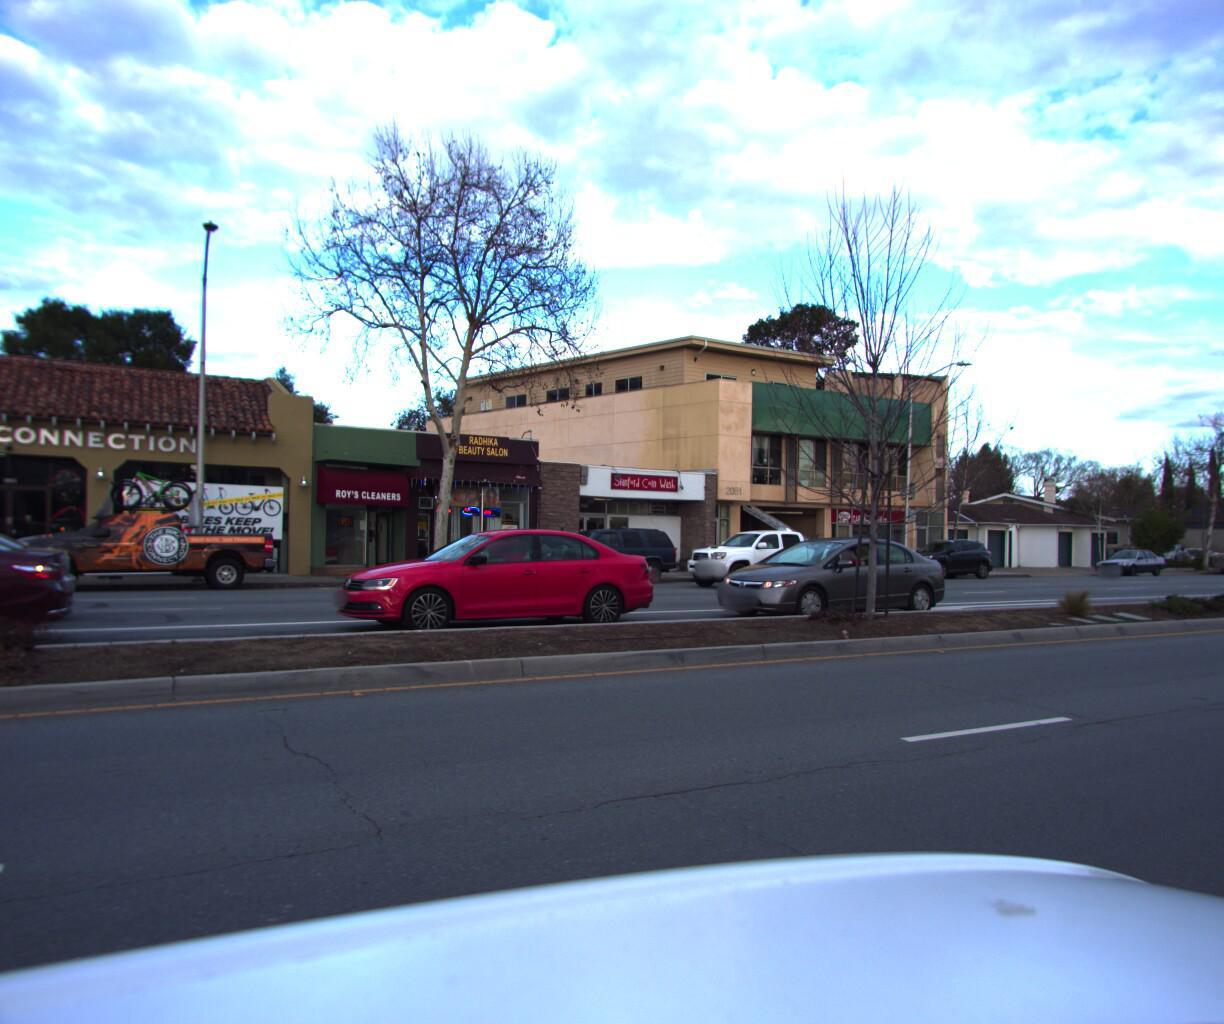car: (319, 516, 668, 641), (0, 464, 282, 594), (695, 528, 955, 625), (0, 500, 74, 689), (514, 520, 681, 587), (0, 509, 81, 643), (682, 525, 830, 580), (888, 535, 995, 577), (1083, 543, 1165, 574), (1210, 545, 1224, 570)
